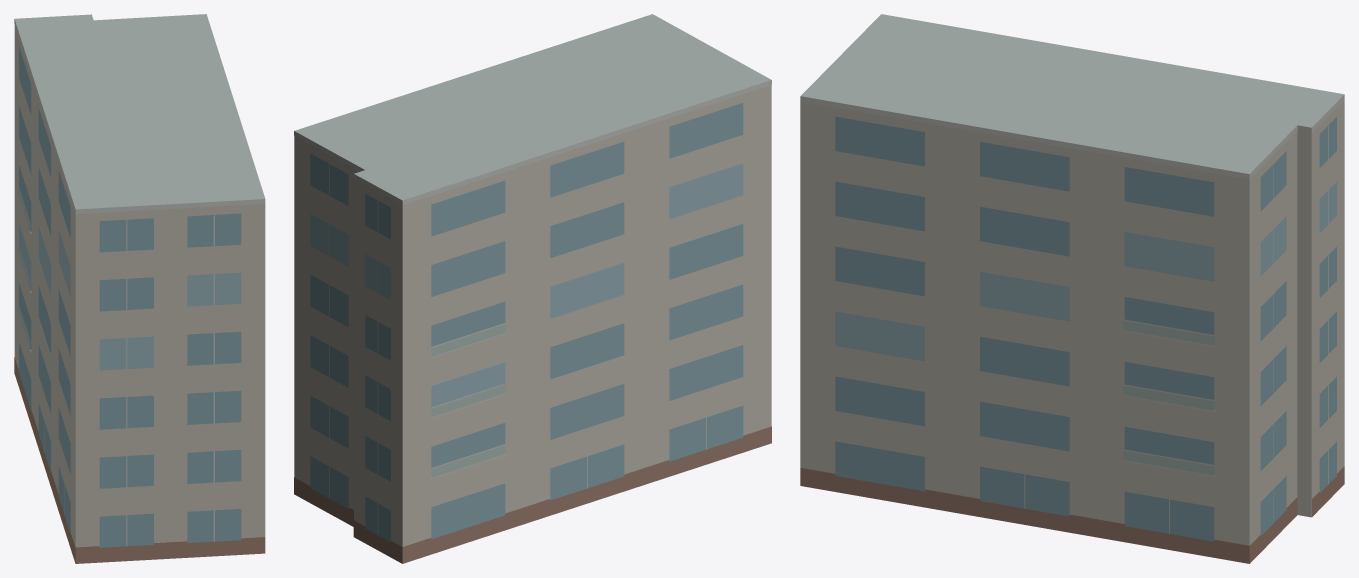
Rendered from survey-upis-32999016.glb.
The picture shows the model from 3 angles, left to right: view 1: azimuth 30°, elevation 25°; view 2: azimuth 150°, elevation 25°; view 3: azimuth 270°, elevation 25°; orthographic projection. The views are drawn at different scales.
Visible parts, largest first — view 1: survey-upis-32999016.tmp; view 2: survey-upis-32999016.tmp; view 3: survey-upis-32999016.tmp.
Boxes of the visible parts, x1,y1,x2,y2 form: survey-upis-32999016.tmp: (14, 14, 265, 563); survey-upis-32999016.tmp: (294, 14, 771, 563); survey-upis-32999016.tmp: (800, 14, 1344, 563).
Size of the model in its own units: 16.14 by 18.3 by 23.16.
